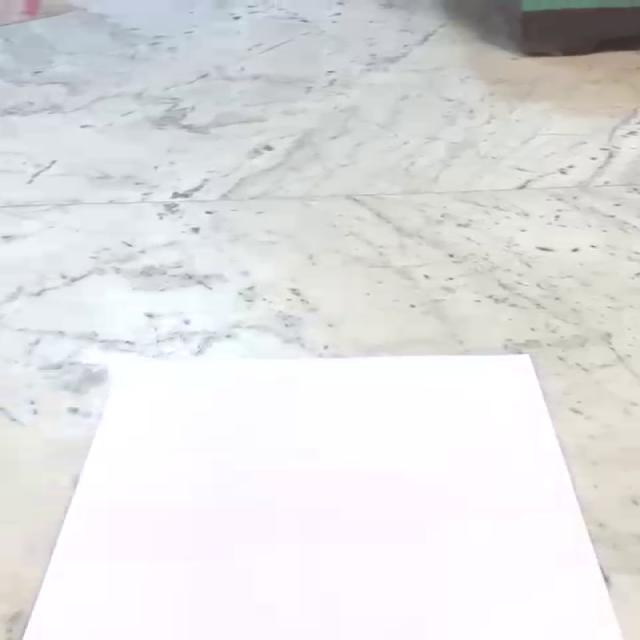road: (21, 354, 625, 640)
